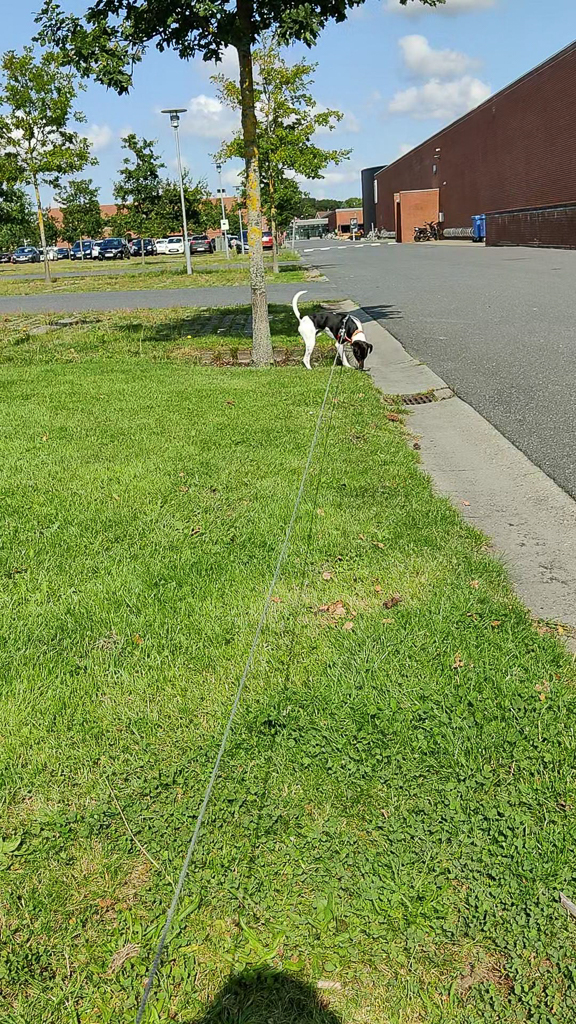Dog: (283, 280, 387, 387)
